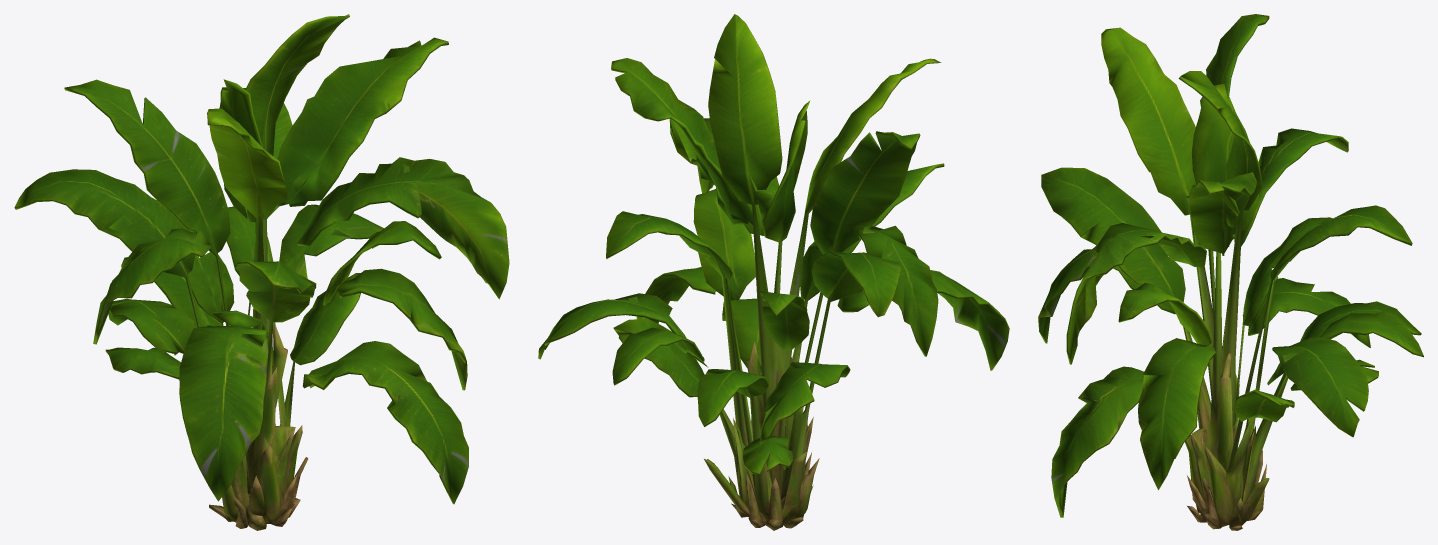
File: VEG_PlantaTropical_02_LOD0.fbx
3 views of the same model, side by side, from view 1: azimuth 30°, elevation 25°; view 2: azimuth 150°, elevation 25°; view 3: azimuth 270°, elevation 25° (orthographic). The views are drawn at different scales.
Visible parts, largest first — view 1: VEG_PlantaTropical_02_Mesh000; view 2: VEG_PlantaTropical_02_Mesh000; view 3: VEG_PlantaTropical_02_Mesh000.
Boxes of the visible parts, bbox=[...] form: VEG_PlantaTropical_02_Mesh000: bbox=[14, 14, 509, 530]; VEG_PlantaTropical_02_Mesh000: bbox=[538, 14, 1009, 530]; VEG_PlantaTropical_02_Mesh000: bbox=[1038, 14, 1423, 530].
Size of the model in its own units: 1.59 by 2.1 by 1.56.
